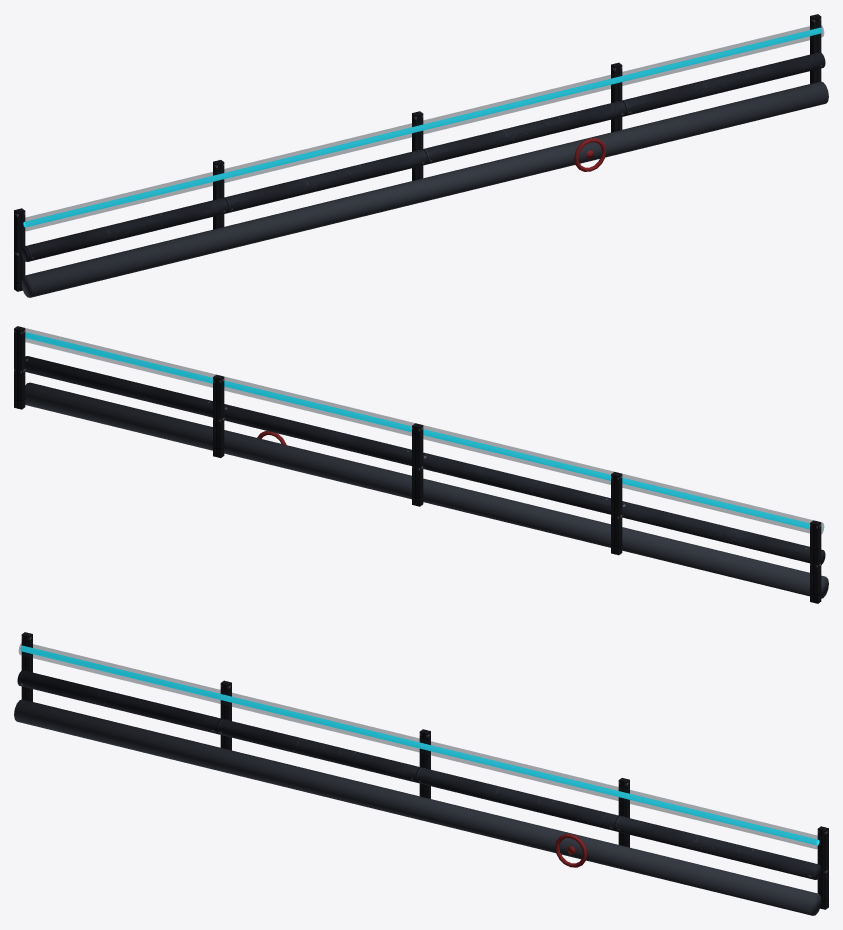
The model's file is Arch_WallPipes_4m.gltf.
3 views of the same model, one above another, from view 1: azimuth 30°, elevation 25°; view 2: azimuth 150°, elevation 25°; view 3: azimuth 330°, elevation 25° (orthographic).
Visible parts, largest first — view 1: Arch_WallPipes_4m; view 2: Arch_WallPipes_4m; view 3: Arch_WallPipes_4m.
Boxes of the visible parts, <box> form: Arch_WallPipes_4m: <box>14,14,828,297</box>; Arch_WallPipes_4m: <box>14,326,828,603</box>; Arch_WallPipes_4m: <box>14,632,828,915</box>.
Bounding box in the file's own units: 4.04 × 0.42 × 0.1387.
6 materials, 2 textured.
